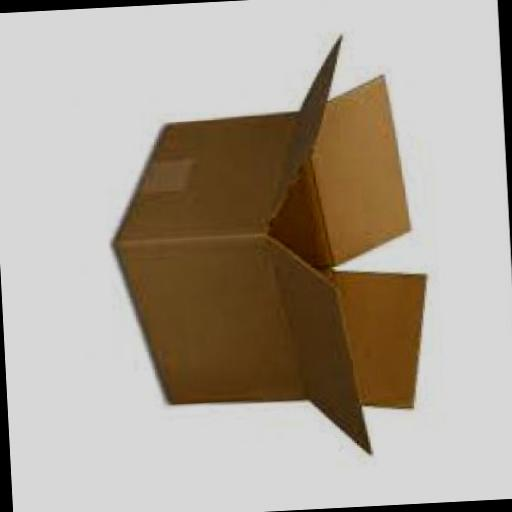cardboard: (106, 28, 438, 466)
